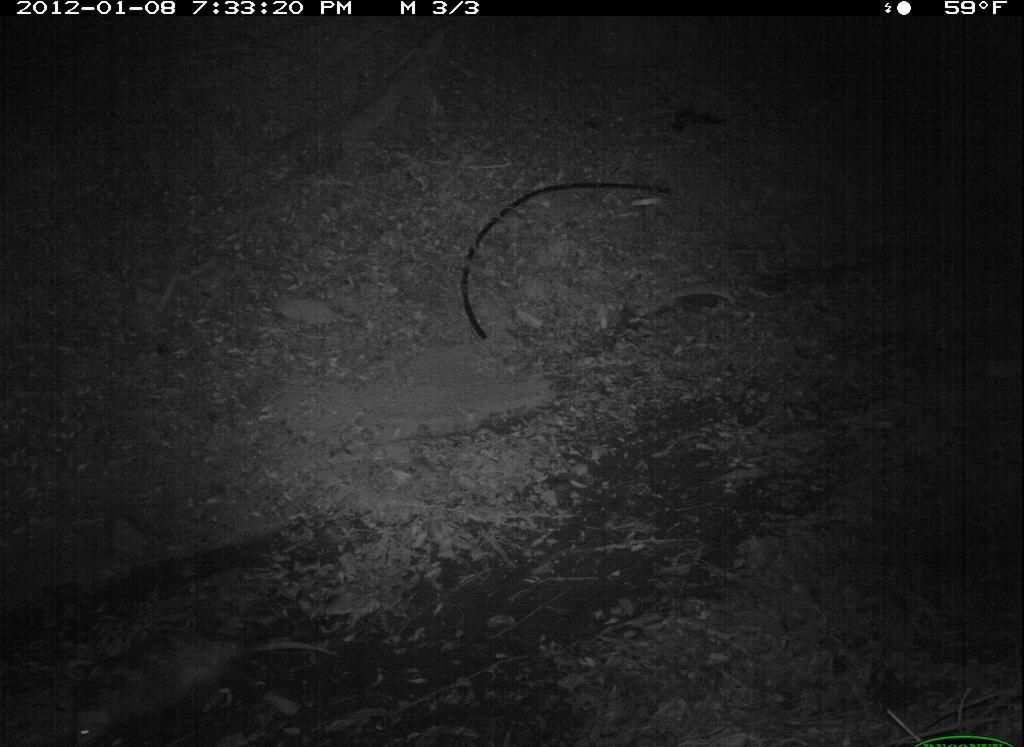opossum: (49, 626, 333, 747)
